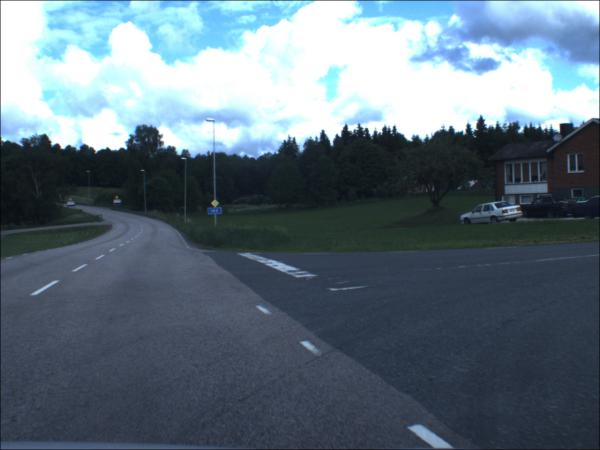80_SIGN: (116, 197, 121, 201), (70, 198, 74, 203)
PRIORITY_ROAD: (212, 201, 221, 209)
